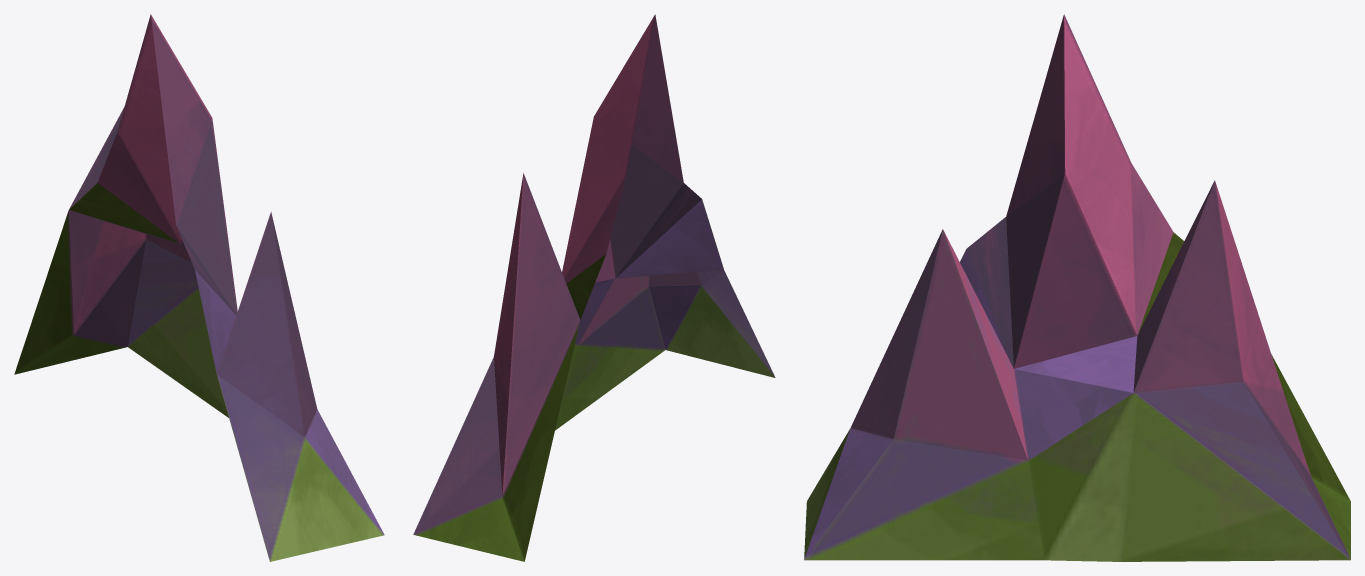
Rendered from wall_crys_deco_C.fbx.
3 renders of one model, left to right at view 1: azimuth 30°, elevation 25°; view 2: azimuth 150°, elevation 25°; view 3: azimuth 270°, elevation 25°, orthographic. The views are drawn at different scales.
Visible parts, largest first — view 1: wall_crys_deco_C; view 2: wall_crys_deco_C; view 3: wall_crys_deco_C.
Part boxes in pixels (x1=…): wall_crys_deco_C: x1=14, y1=14, x2=384, y2=561; wall_crys_deco_C: x1=413, y1=14, x2=775, y2=561; wall_crys_deco_C: x1=804, y1=14, x2=1350, y2=561.
Size of the model in its own units: 0.5331 by 1.98 by 2.01.
